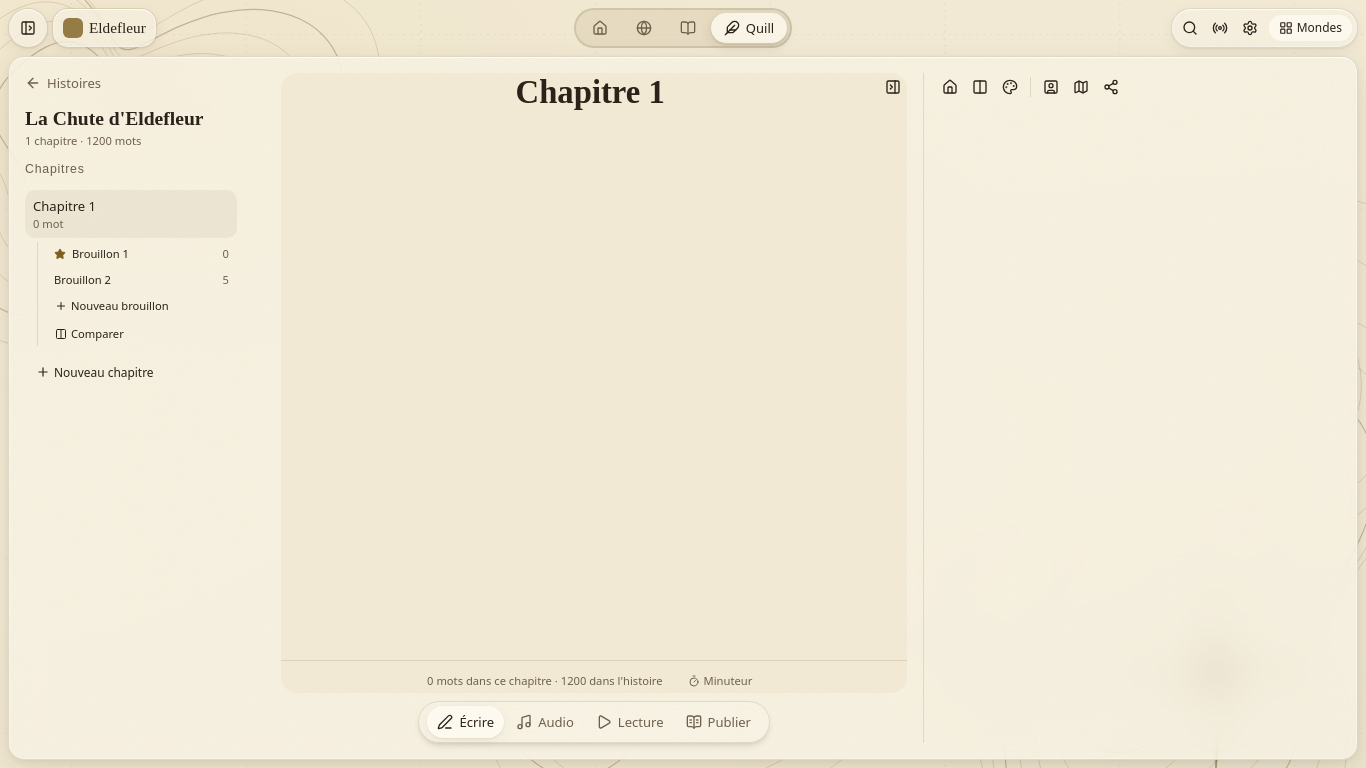
Test case: another draft opens with a note, becomes current, and two drafts compare
Expected: the link with aria-label "Brouillon 1, version courante, 0 mot" is shown, [46,242,237,266]
Click the link with aria-label "Brouillon 2, 5 mots" at (83, 279), box [46,268,237,292]
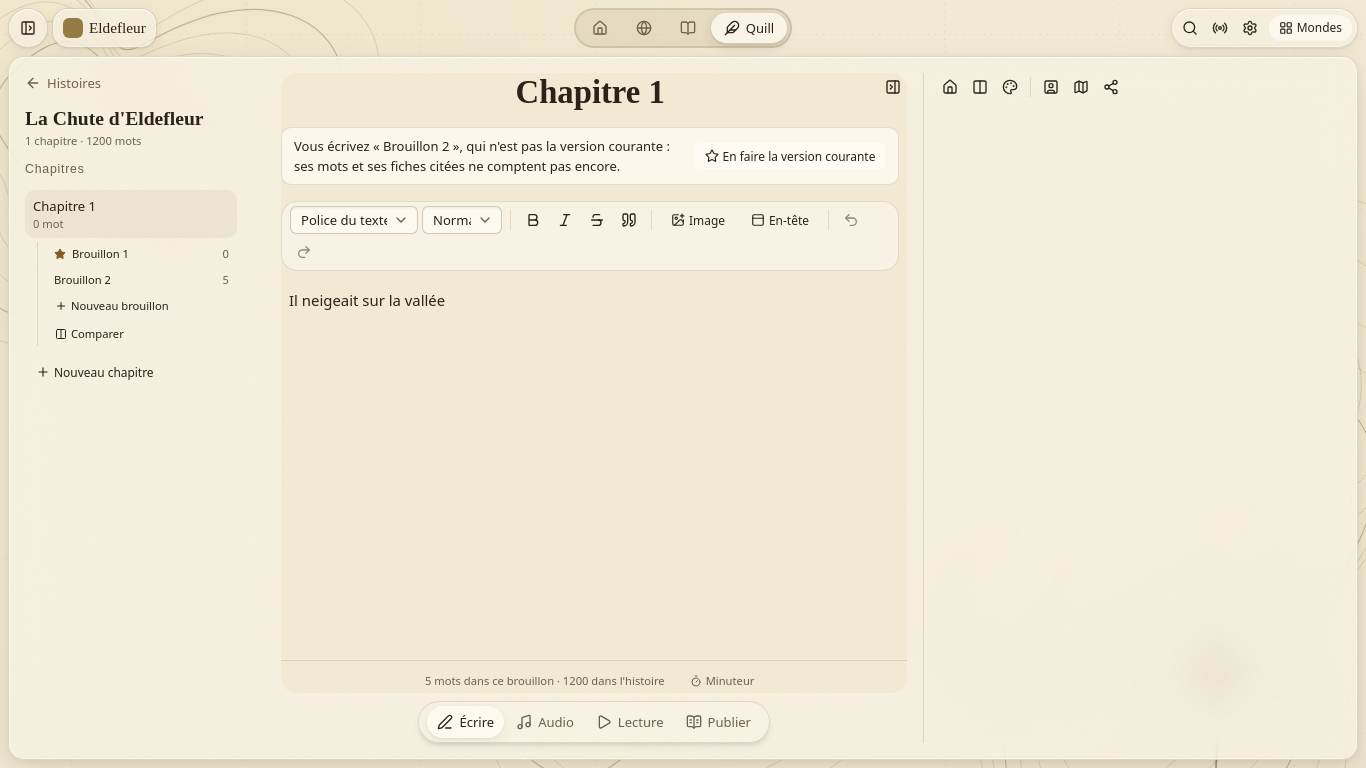
Now the text "« Brouillon 2 », qui n'est pas la version courante" is shown, box [294,137,670,175]
Now the text "5 mots dans ce brouillon · 1200 dans l'histoire" is shown, box [425,673,665,689]
Click the button "En faire la version courante" at (790, 156), box [694,142,886,170]
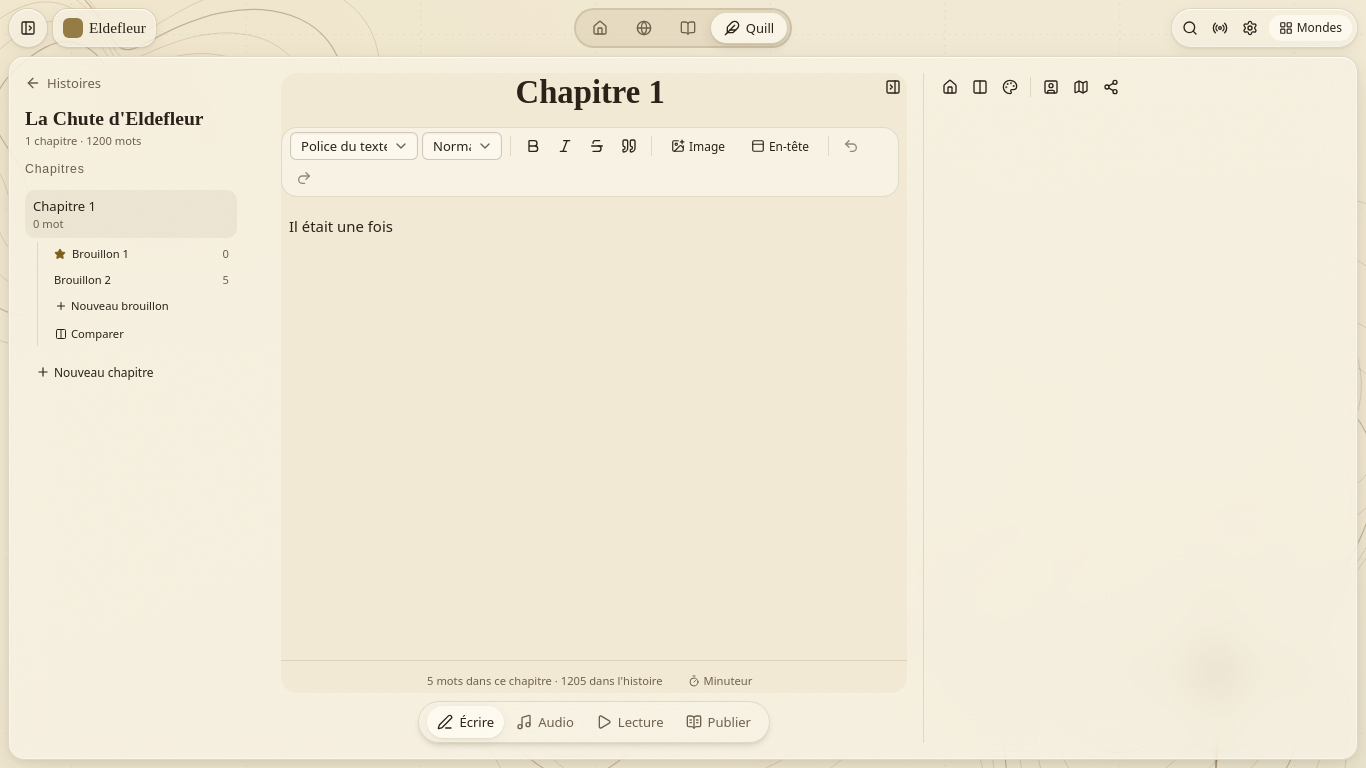
Click the link "Comparer" at (89, 333), box [55,326,124,341]
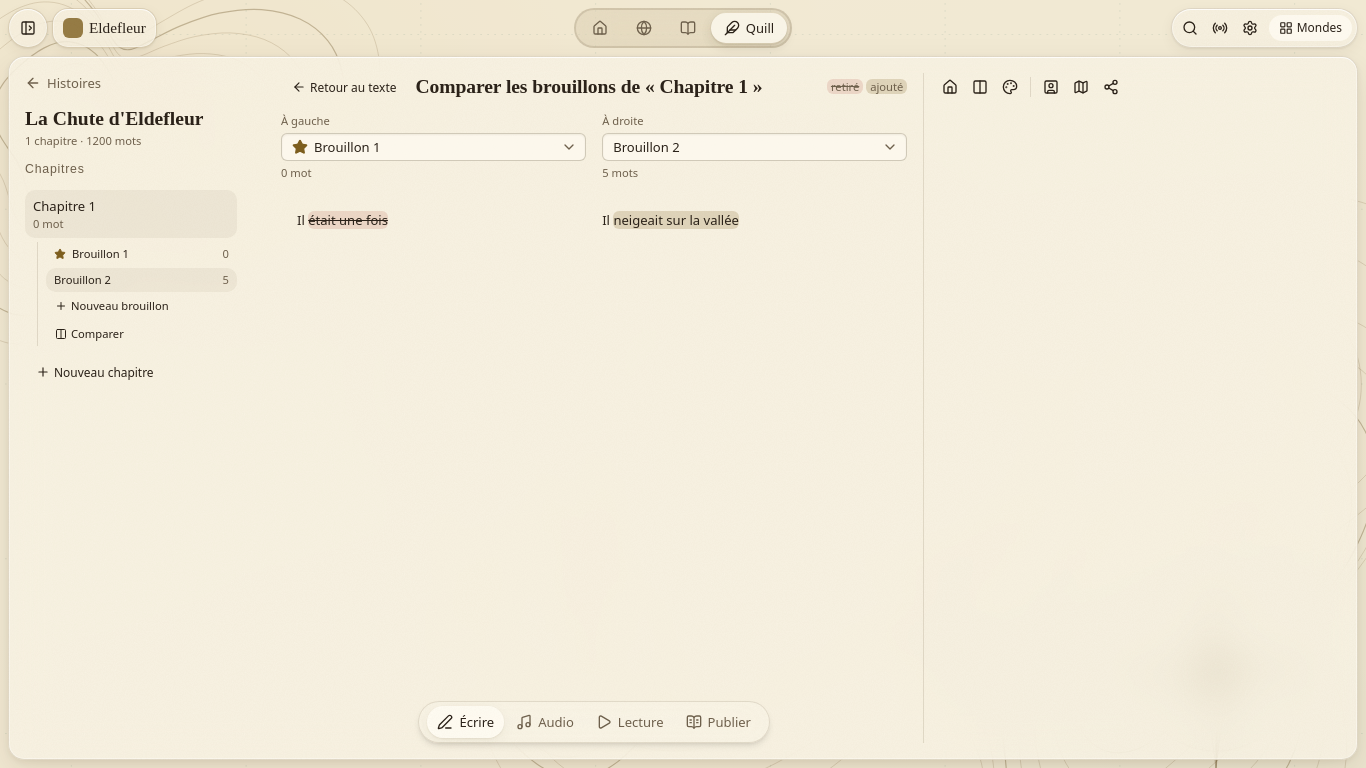
Now the element showing "était une fois" is shown, box [308,211,388,229]
Now the element showing "neigeait sur la vallée" is shown, box [613,211,739,229]
